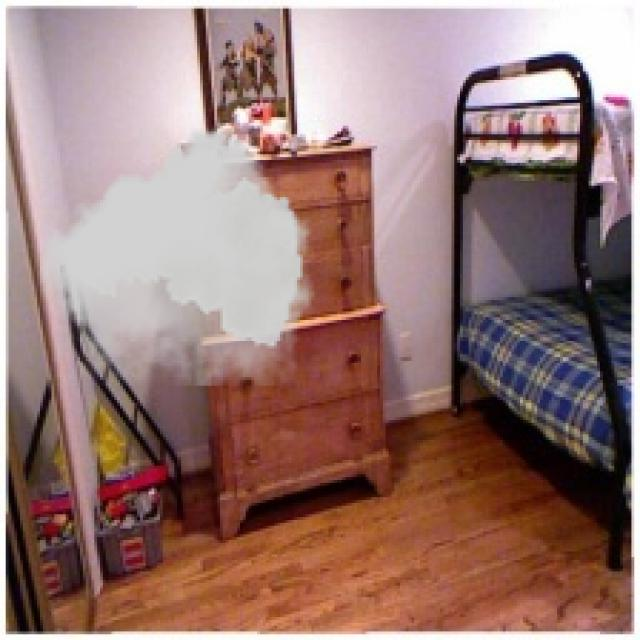smoke: (40, 128, 314, 386)
